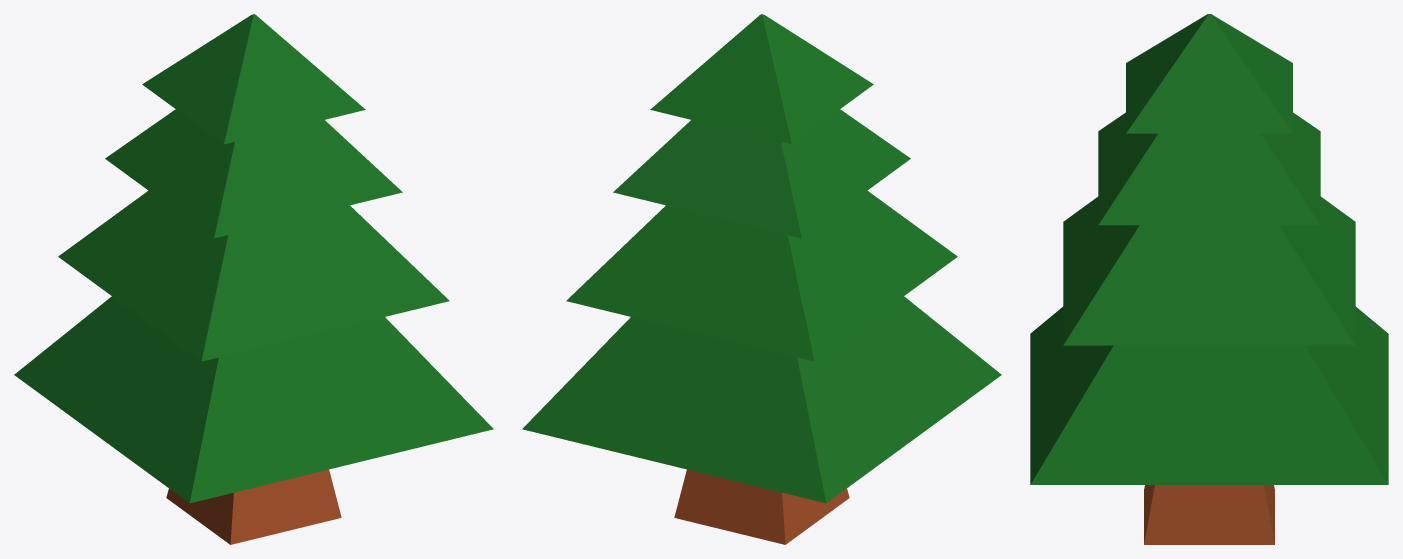
The model's file is tree.fbx.
3 renders of one model, left to right at view 1: azimuth 30°, elevation 25°; view 2: azimuth 150°, elevation 25°; view 3: azimuth 270°, elevation 25°, orthographic.
Parts seen in each view (by area): view 1: Tree; view 2: Tree; view 3: Tree.
Boxes of the visible parts, x1,y1,x2,y2 form: Tree: [14, 14, 493, 544]; Tree: [522, 14, 1001, 544]; Tree: [1030, 14, 1388, 544].
Bounding box in the file's own units: 98.17 × 98.17 × 152.
